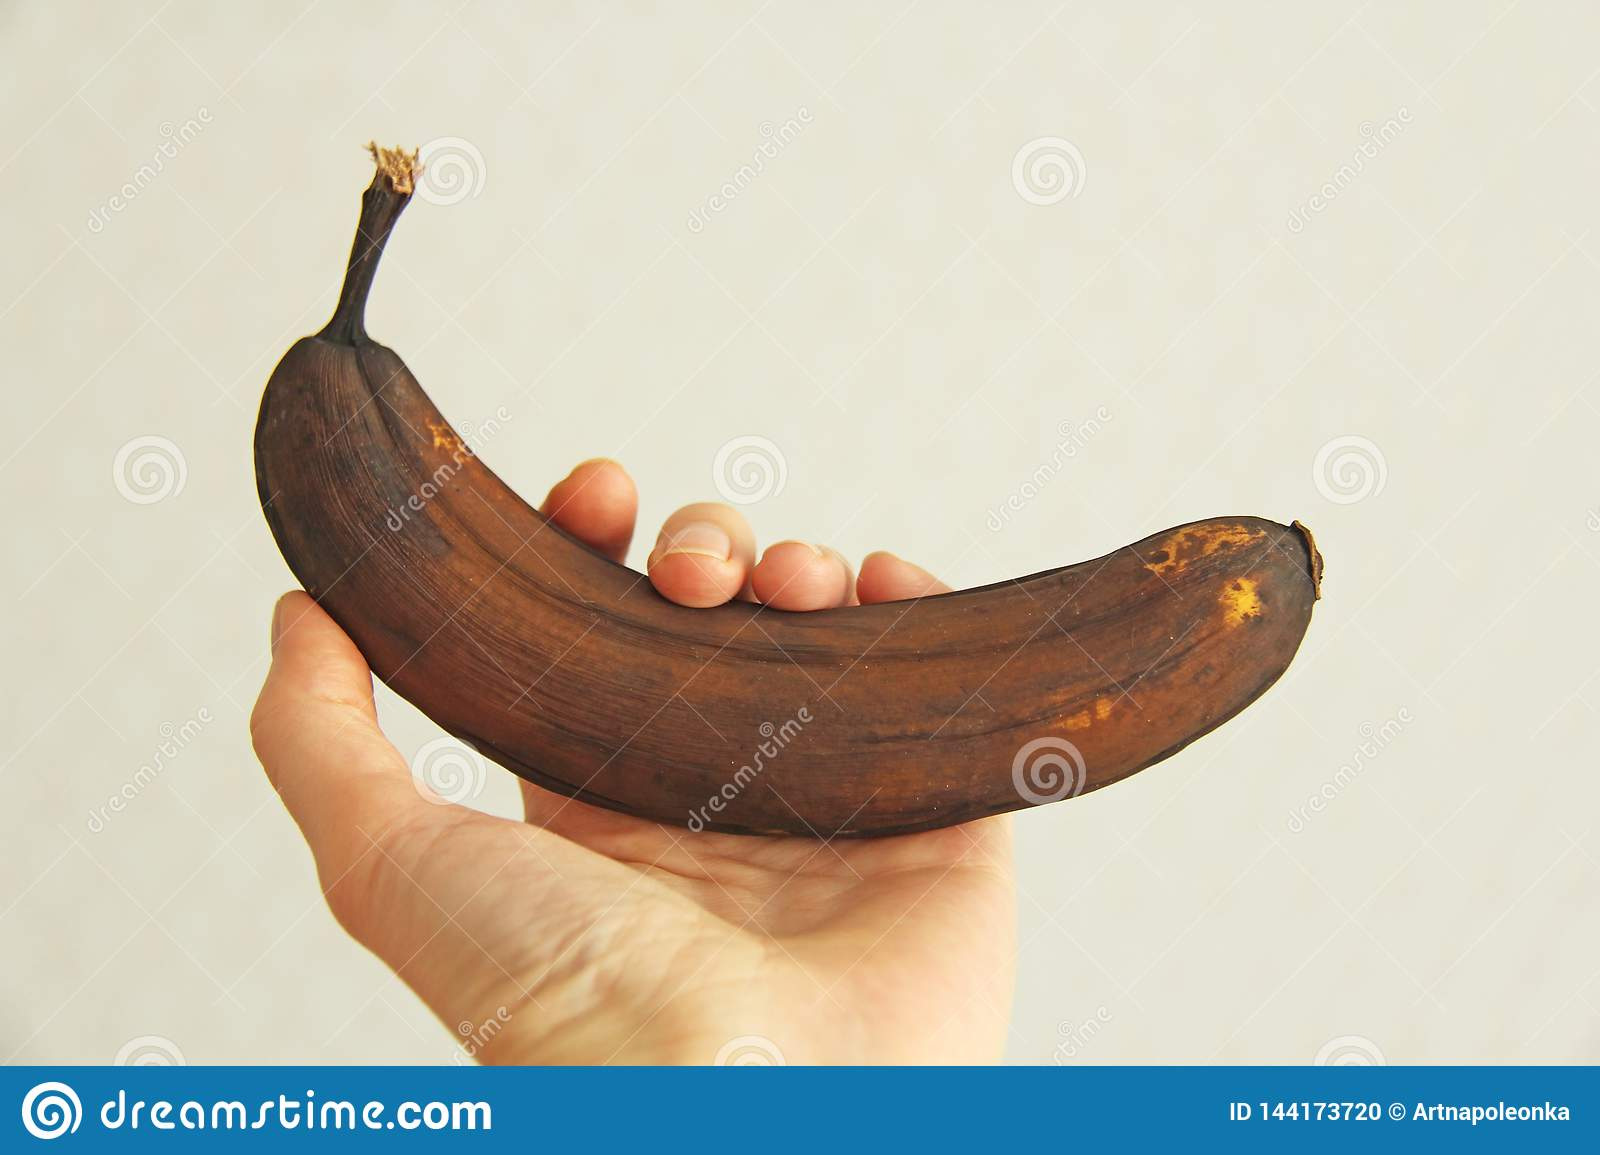looks_defective: (129, 165, 1576, 1018)
